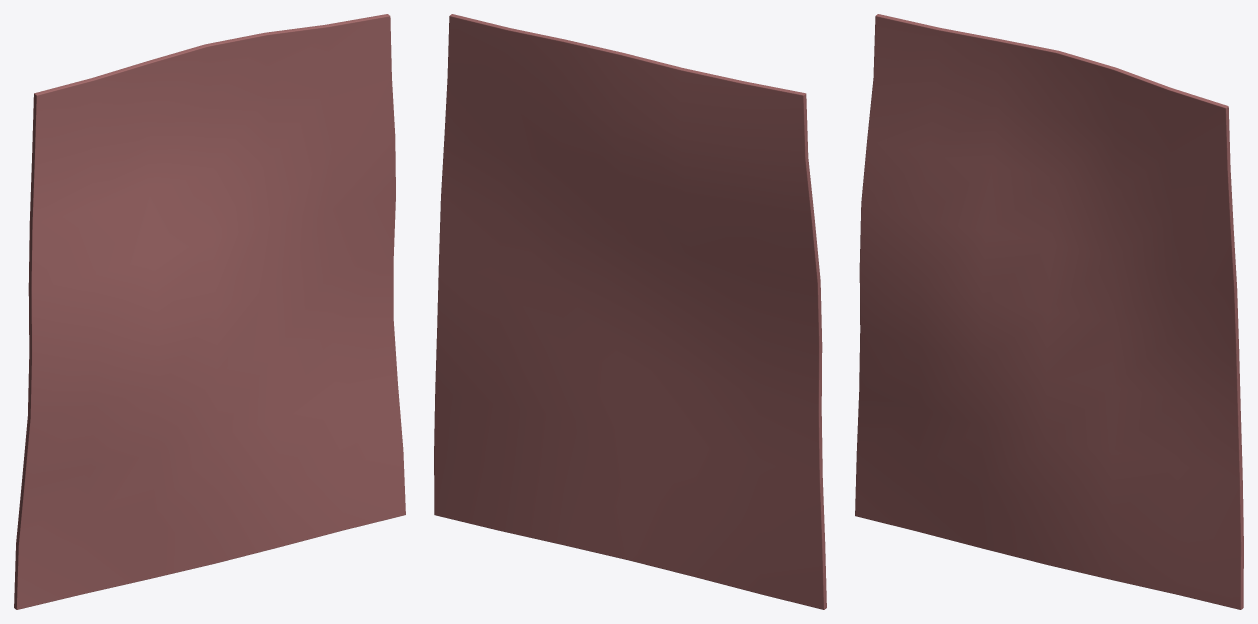
The model's file is Murs_Ruelle_4.fbx.
The picture shows the model from 3 angles, left to right: view 1: azimuth 30°, elevation 25°; view 2: azimuth 150°, elevation 25°; view 3: azimuth 330°, elevation 25°; orthographic projection.
Parts seen in each view (by area): view 1: pPlane4; view 2: pPlane4; view 3: pPlane4.
Boxes of the visible parts, bbox=[...] form: pPlane4: bbox=[14, 14, 405, 609]; pPlane4: bbox=[434, 14, 826, 609]; pPlane4: bbox=[855, 14, 1243, 609].
Bounding box in the file's own units: 363 × 455 × 28.86.
